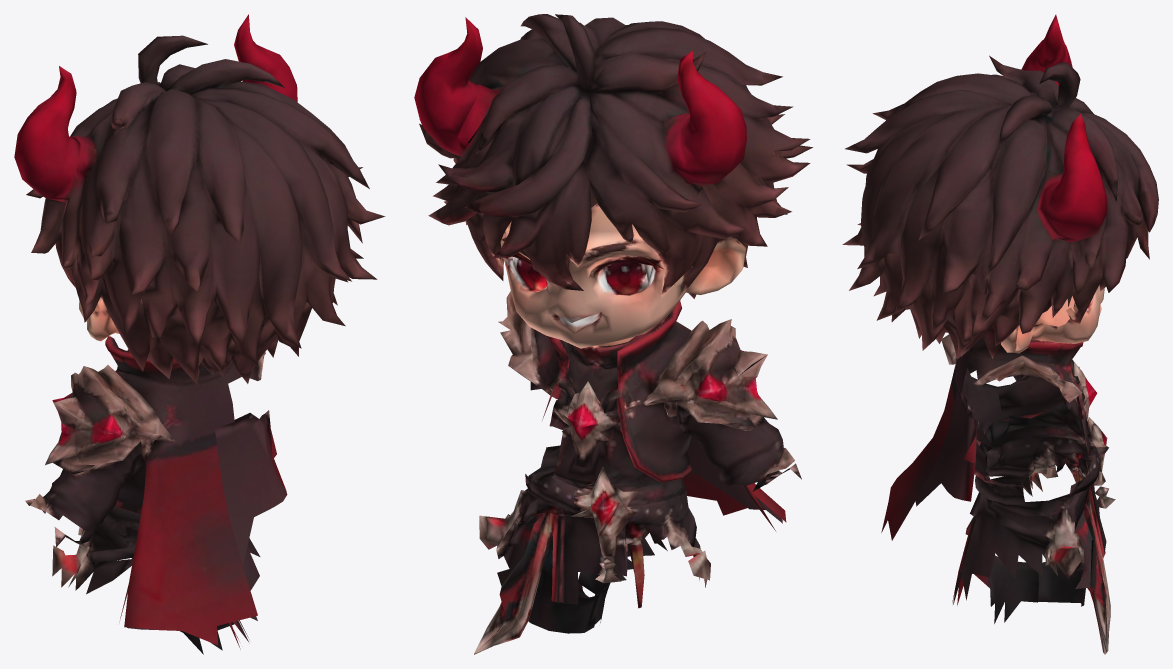
The model's file is batch_01.glb.
3 renders of one model, left to right at view 1: azimuth 30°, elevation 25°; view 2: azimuth 150°, elevation 25°; view 3: azimuth 270°, elevation 25°, orthographic. The views are drawn at different scales.
Parts seen in each view (by area): view 1: Head, LeftUpperArm, UpperTorso, LeftUpperArm__Material02, UpperTorso__Material02, LowerTorso; view 2: Head, LeftUpperArm, LowerTorso, LeftUpperArm__Material02, UpperTorso, UpperTorso__Material02; view 3: Head, LowerTorso, LeftUpperArm, UpperTorso, UpperTorso__Material02.
Part boxes in pixels (box(x1,y1,x2,y2)): Head: box(14, 14, 385, 452); LeftUpperArm: box(25, 442, 257, 645); UpperTorso: box(86, 218, 377, 439); LeftUpperArm__Material02: box(45, 366, 194, 469); UpperTorso__Material02: box(138, 415, 287, 565); LowerTorso: box(78, 527, 260, 654); Head: box(414, 14, 812, 438); LeftUpperArm: box(550, 410, 801, 608); LowerTorso: box(474, 466, 654, 654); LeftUpperArm__Material02: box(553, 241, 777, 436); UpperTorso: box(444, 157, 748, 345); UpperTorso__Material02: box(529, 398, 704, 494); Head: box(842, 14, 1158, 418); LowerTorso: box(952, 416, 1115, 654); LeftUpperArm: box(881, 362, 1105, 540); UpperTorso: box(876, 259, 1095, 435); UpperTorso__Material02: box(915, 376, 1096, 507).
Size of the model in its own units: 2.4 by 3.99 by 2.05.
2 materials, 2 textured.
